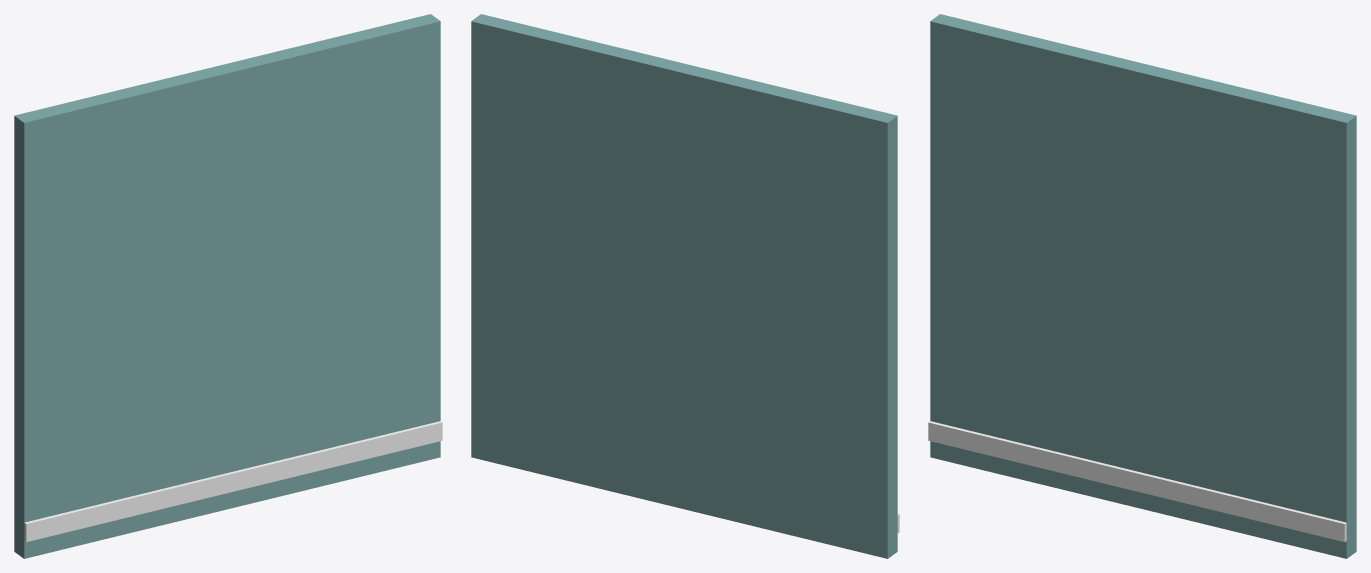
The model's file is wall01_test.obj.
3 views of the same model, side by side, from view 1: azimuth 30°, elevation 25°; view 2: azimuth 150°, elevation 25°; view 3: azimuth 330°, elevation 25° (orthographic).
Bounding box in the file's own units: 12 × 12 × 0.6.
1 material, 1 textured.
